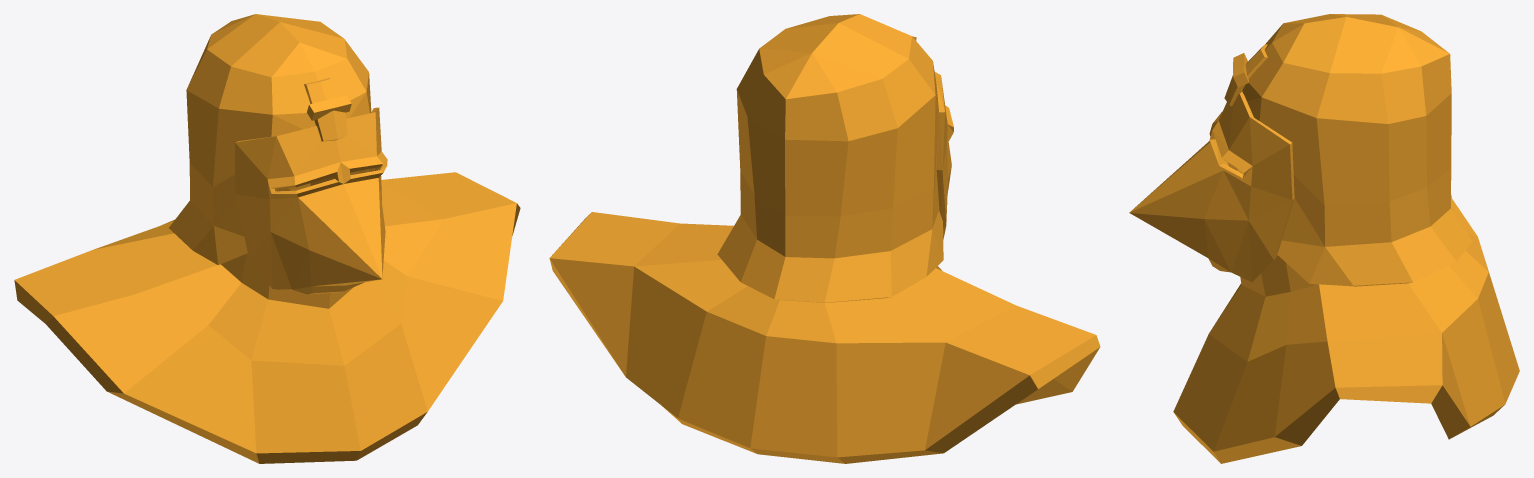
Rendered from SM_Helmet_Houndskull_Bascinet_Aventail.fbx.
3 renders of one model, left to right at view 1: azimuth 30°, elevation 25°; view 2: azimuth 150°, elevation 25°; view 3: azimuth 270°, elevation 25°, orthographic. The views are drawn at different scales.
Visible parts, largest first — view 1: helmet-houndskull-bascinet-aventail-helmet, helmet-houndskull-bascinet-aventail-visor; view 2: helmet-houndskull-bascinet-aventail-helmet, helmet-houndskull-bascinet-aventail-visor; view 3: helmet-houndskull-bascinet-aventail-helmet, helmet-houndskull-bascinet-aventail-visor.
Boxes of the visible parts, box(x1,y1,x2,y2) form: helmet-houndskull-bascinet-aventail-helmet: box(14, 14, 520, 463); helmet-houndskull-bascinet-aventail-visor: box(235, 107, 387, 294); helmet-houndskull-bascinet-aventail-helmet: box(549, 14, 1100, 463); helmet-houndskull-bascinet-aventail-visor: box(934, 72, 953, 239); helmet-houndskull-bascinet-aventail-helmet: box(1173, 14, 1519, 463); helmet-houndskull-bascinet-aventail-visor: box(1129, 75, 1294, 281).
Bounding box in the file's own units: 0.6363 × 0.4898 × 0.4242.
